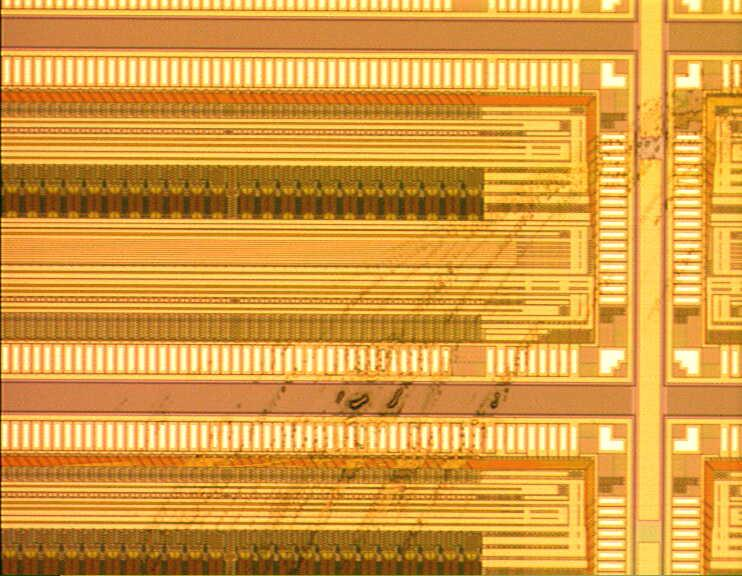PO CONTAMINATION: (105, 82, 742, 576)
